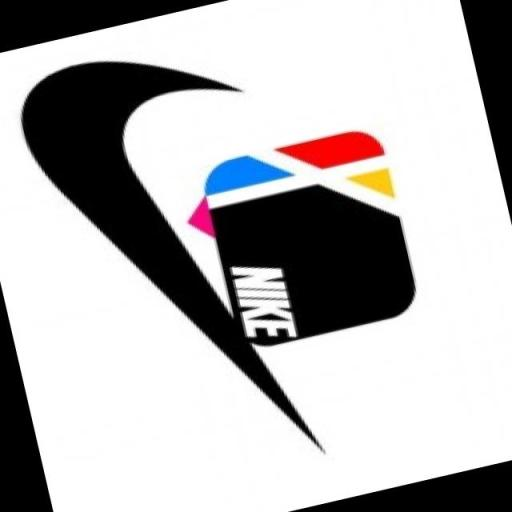Nike: (16, 19, 346, 508)
